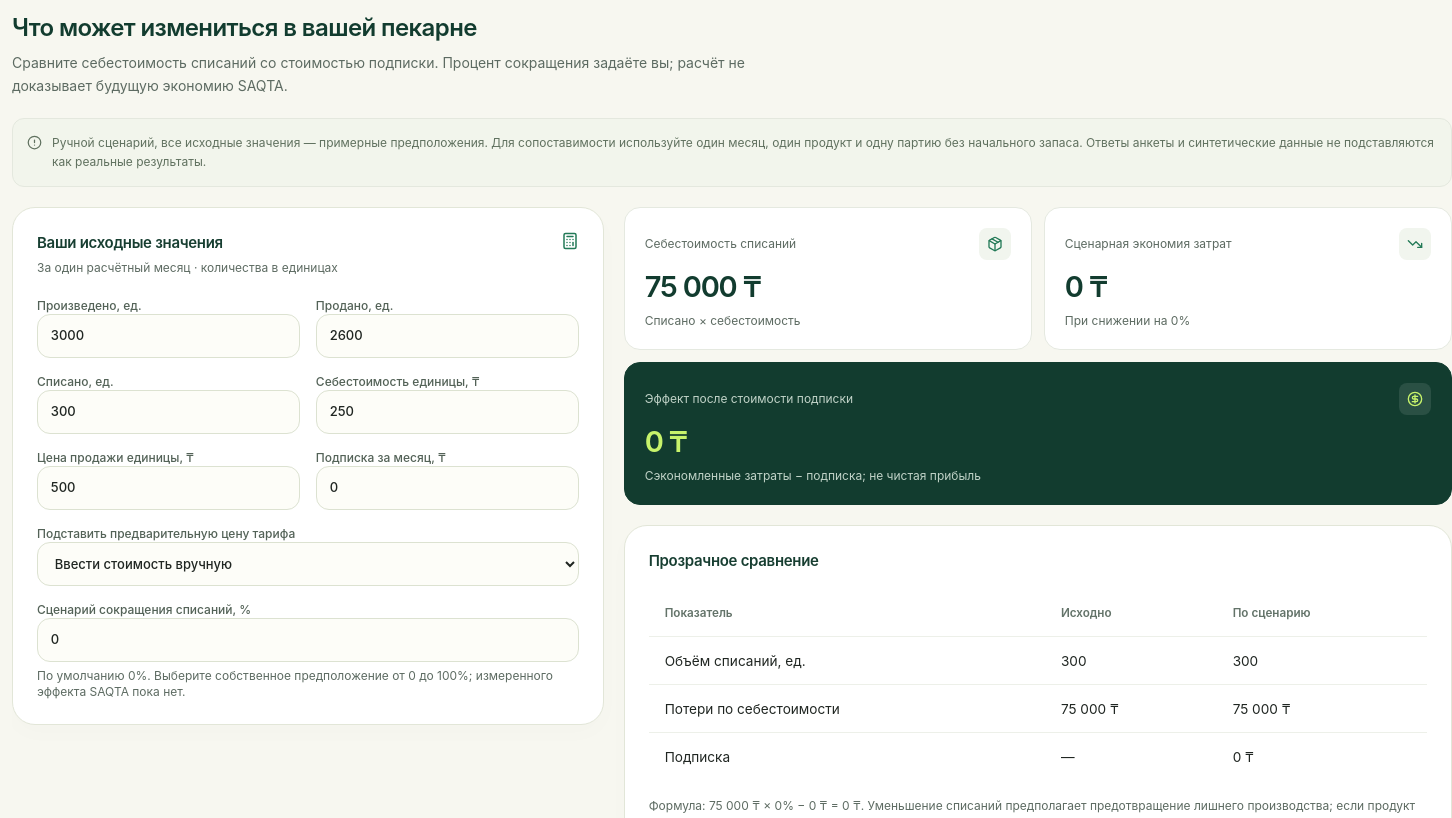
it: recalculates the savings scenario interactively and stops calculations for inconsistent inventory
Replace the text in the number field labelled "Сценарий сокращения списаний" with "50" at (308,640), box x1=37 y1=618 x2=579 y2=662
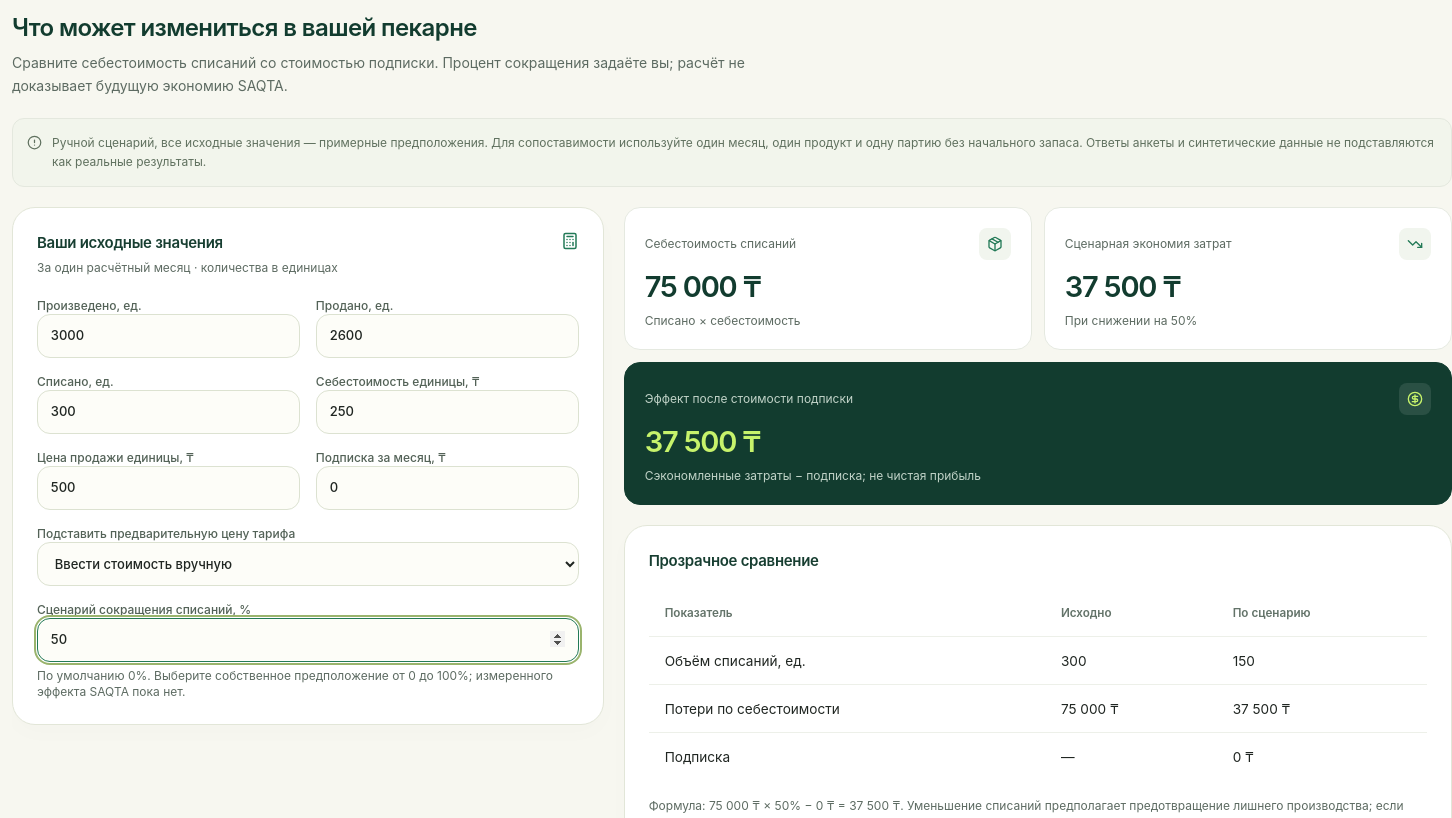
Now the text "37 500 ₸" below "Сценарная экономия затрат" is shown, box x1=1065 y1=268 x2=1180 y2=304
Replace the text in the number field labelled "Произведено, ед." with "100" at (168,336), box x1=37 y1=314 x2=300 y2=358
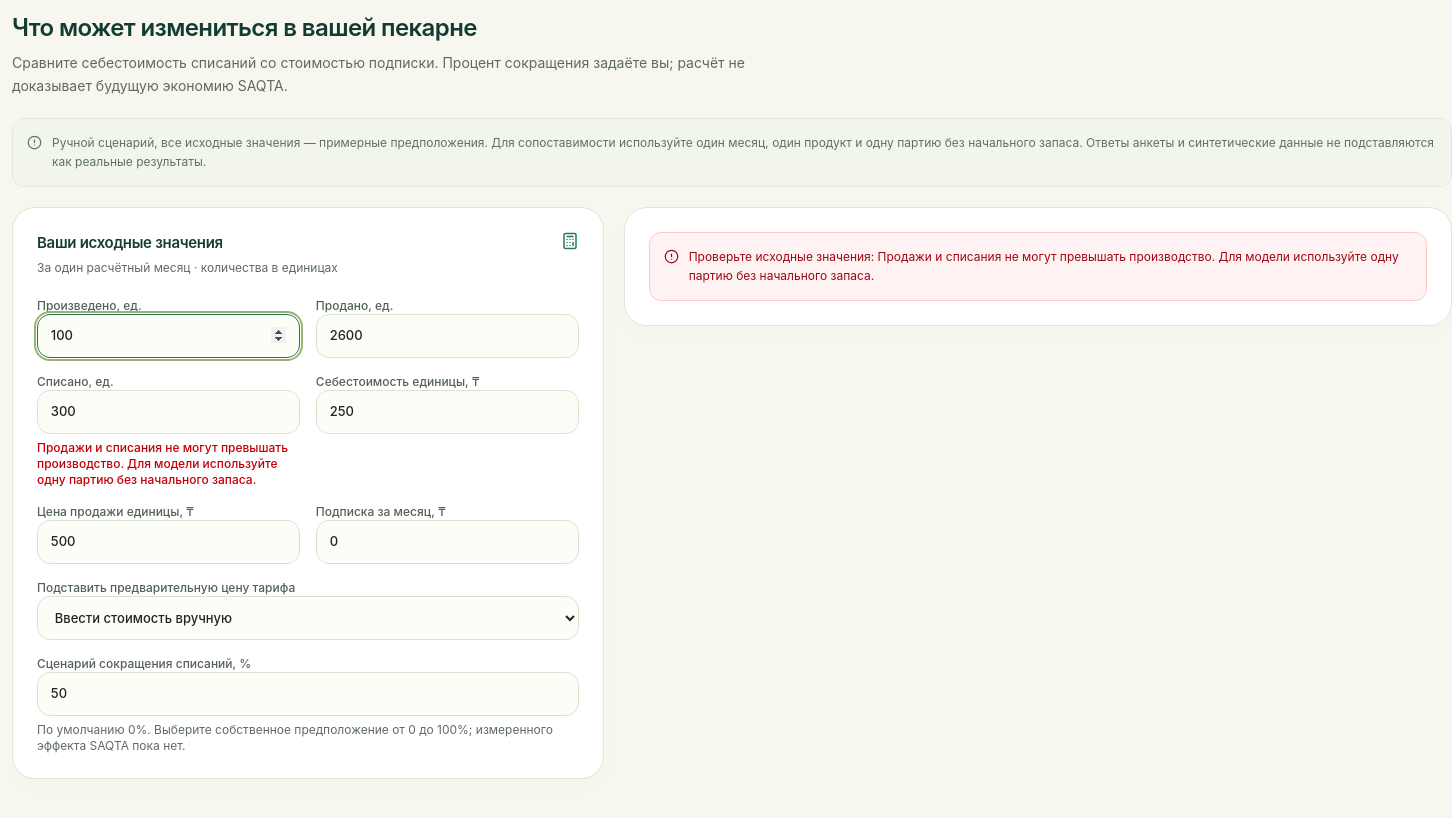
Expected: the text "Эффект после стоимости подписки" is not shown
Now the message that starts with "Проверьте исходные значения:" shows "Продажи и списания не могут превышать производство", box x1=689 y1=248 x2=1399 y2=283
